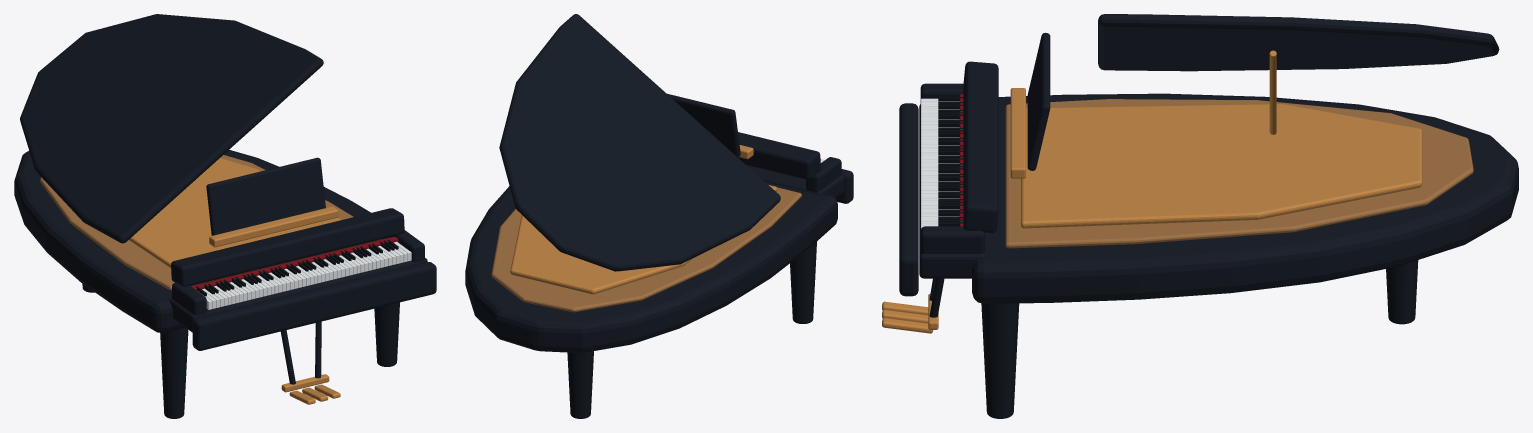
File: procedural-grand-piano.glb
3 views of the same model, side by side, from view 1: azimuth 30°, elevation 25°; view 2: azimuth 150°, elevation 25°; view 3: azimuth 270°, elevation 25° (orthographic). The views are drawn at different scales.
Visible parts, largest first — view 1: Open_Lid, Grand_Piano_Body, Keyboard_Front_Rail, Fallboard, Music_Desk, Golden_Frame, Soundboard, Leg_1, Keyboard_Bed, Music_Desk_Lip, Leg_2, Rear_Felt (+4 smaller); view 2: Open_Lid, Grand_Piano_Body, Soundboard, Golden_Frame, Fallboard, Music_Desk, Leg_1, Leg_3, Keyboard_Bed, Left_Key_Cheek, Keyboard_Front_Rail; view 3: Golden_Frame, Grand_Piano_Body, Open_Lid, Soundboard, Fallboard, Keyboard_Front_Rail, Leg_2, Music_Desk, Leg_3, Keyboard_Bed, Right_Key_Cheek, Music_Desk_Lip (+2 smaller).
Boxes of the visible parts, left/top/right/bottom form: Open_Lid: left=20, top=14, right=323, bottom=243; Grand_Piano_Body: left=14, top=149, right=389, bottom=332; Keyboard_Front_Rail: left=192, top=262, right=436, bottom=350; Fallboard: left=171, top=208, right=404, bottom=286; Music_Desk: left=206, top=157, right=325, bottom=235; Golden_Frame: left=129, top=158, right=340, bottom=267; Soundboard: left=40, top=155, right=381, bottom=290; Leg_1: left=160, top=327, right=188, bottom=418; Keyboard_Bed: left=169, top=258, right=427, bottom=332; Music_Desk_Lip: left=209, top=206, right=338, bottom=247; Leg_2: left=374, top=302, right=399, bottom=366; Rear_Felt: left=191, top=236, right=398, bottom=290; Open_Lid: left=499, top=14, right=780, bottom=271; Grand_Piano_Body: left=465, top=181, right=837, bottom=352; Soundboard: left=491, top=187, right=801, bottom=312; Golden_Frame: left=510, top=185, right=777, bottom=294; Fallboard: left=738, top=132, right=820, bottom=179; Music_Desk: left=667, top=93, right=740, bottom=157; Leg_1: left=790, top=242, right=816, bottom=323; Leg_3: left=567, top=351, right=593, bottom=418; Keyboard_Bed: left=747, top=165, right=844, bottom=198; Left_Key_Cheek: left=806, top=157, right=841, bottom=192; Keyboard_Front_Rail: left=835, top=169, right=853, bottom=203; Golden_Frame: left=1021, top=104, right=1422, bottom=228; Grand_Piano_Body: left=972, top=93, right=1518, bottom=303; Open_Lid: left=1098, top=14, right=1499, bottom=71; Soundboard: left=1005, top=99, right=1473, bottom=248; Fallboard: left=963, top=61, right=998, bottom=232; Keyboard_Front_Rail: left=899, top=103, right=918, bottom=296; Leg_2: left=981, top=303, right=1019, bottom=418; Music_Desk: left=1027, top=32, right=1050, bottom=170; Leg_3: left=1386, top=260, right=1418, bottom=324; Keyboard_Bed: left=919, top=104, right=985, bottom=278; Right_Key_Cheek: left=920, top=226, right=984, bottom=253; Music_Desk_Lip: left=1010, top=88, right=1025, bottom=178.
Size of the model in its own units: 1.64 by 1.64 by 2.47.
